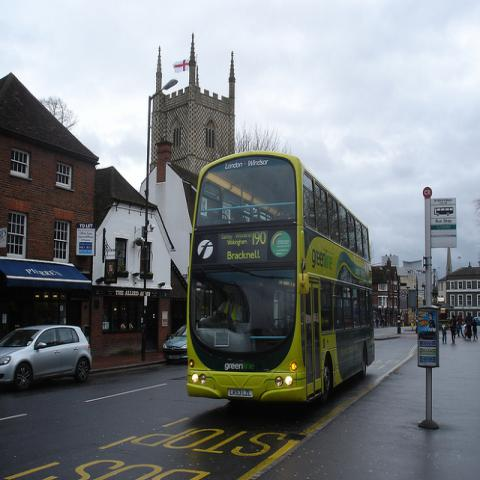bus: (187, 147, 376, 409)
car: (1, 325, 93, 390), (162, 324, 188, 364)
